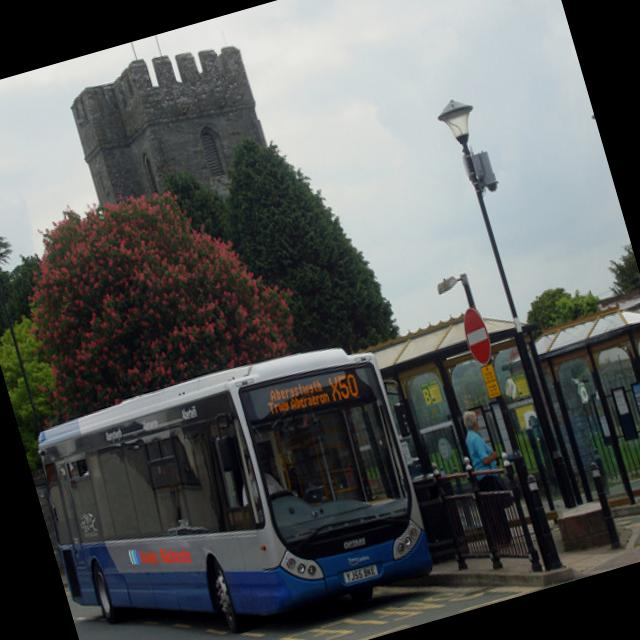Vehicle: (22, 329, 437, 640)
